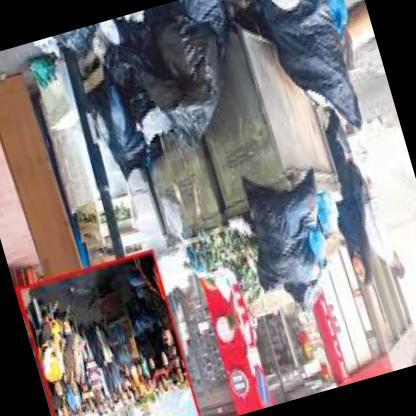Garbage: (66, 0, 246, 159), (242, 186, 342, 300), (276, 0, 368, 105), (183, 208, 302, 284)
